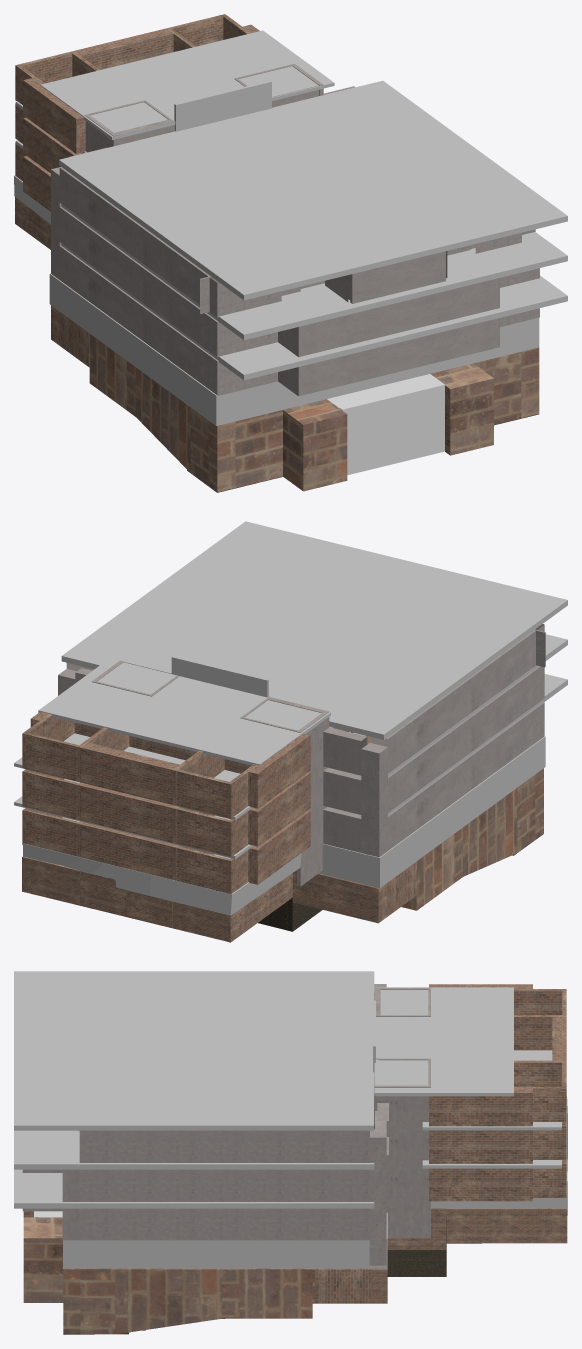
File: EDIFICIO.fbx
3 renders of one model, top to bottom at view 1: azimuth 30°, elevation 25°; view 2: azimuth 150°, elevation 25°; view 3: azimuth 270°, elevation 25°, orthographic. The views are drawn at different scales.
Parts seen in each view (by area): view 1: Cube.151, Cube.040, Cube.152, Plane.006, Cube.105, Cube.039, Cube.099, Cube.094, Cube.005, Cube.112, Cube.069, Cube.047 (+15 smaller); view 2: Cube.151, Cube.152, Plane.006, Cube.036, Cube.040, Cube.110, Cube.112, Cube.094, Cube.005, Cube.063, Cube.053, Cube.109 (+21 smaller); view 3: Cube.151, Cube.040, Cube.152, Plane.006, Cube.059, Cube.118, Cube.058, Cube.110, Cube.105, Cube.036, Cube.049, Cube.099 (+16 smaller).
Part boxes in pixels (x1,y1,x2,y2): Cube.151: (59, 80, 567, 300); Cube.040: (88, 333, 539, 492); Cube.152: (40, 30, 334, 139); Plane.006: (14, 175, 539, 425); Cube.105: (61, 204, 567, 340); Cube.039: (327, 374, 444, 475); Cube.099: (61, 243, 567, 380); Cube.094: (59, 206, 209, 350); Cube.005: (59, 245, 209, 388); Cube.112: (59, 167, 209, 304); Cube.069: (209, 268, 539, 357); Cube.047: (209, 308, 539, 396); Cube.151: (61, 521, 567, 739); Cube.152: (38, 658, 330, 765); Plane.006: (23, 736, 545, 915); Cube.036: (22, 856, 292, 942); Cube.040: (401, 768, 543, 910); Cube.110: (22, 714, 257, 818); Cube.112: (369, 630, 535, 773); Cube.094: (388, 669, 535, 812); Cube.005: (388, 708, 535, 850); Cube.063: (22, 769, 248, 856); Cube.053: (22, 808, 248, 893); Cube.109: (81, 742, 179, 804); Cube.151: (14, 971, 374, 1130); Cube.040: (23, 1211, 314, 1334); Cube.152: (374, 987, 513, 1096); Plane.006: (63, 1096, 567, 1268); Cube.059: (79, 1169, 369, 1201); Cube.118: (79, 1130, 369, 1162); Cube.058: (79, 1208, 369, 1240); Cube.110: (514, 989, 566, 1122); Cube.105: (14, 1130, 374, 1169); Cube.036: (446, 1167, 567, 1243); Cube.049: (369, 1164, 430, 1265); Cube.099: (14, 1169, 374, 1208).
Size of the model in its own units: 22.13 by 15.33 by 32.54.
